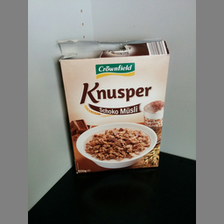cereal: (58, 41, 172, 172)
